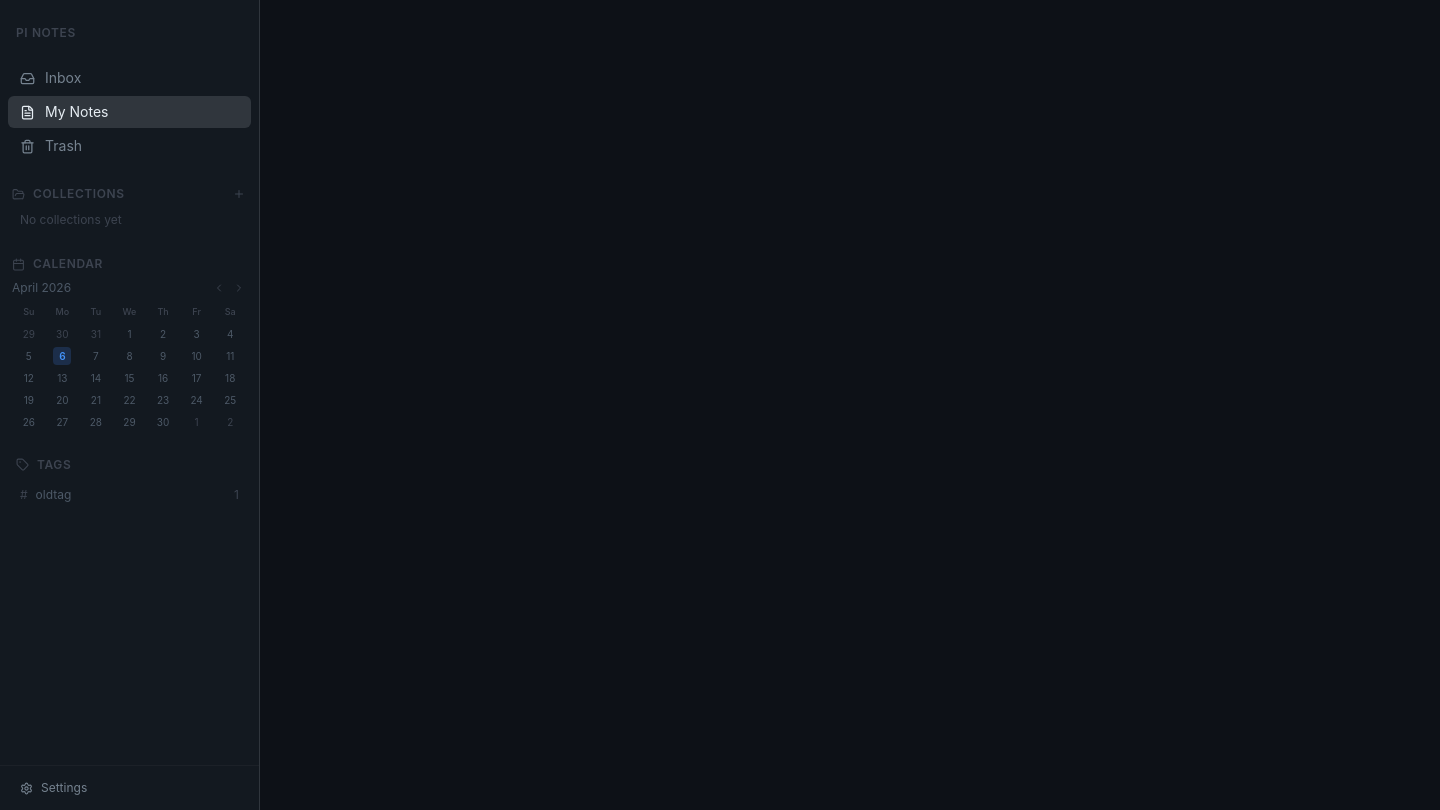
Test: Sidebar › shows toast when renameTag fails
Hover over the text "oldtag" at [53, 494], box top-left (36, 487), bottom-right (71, 502)
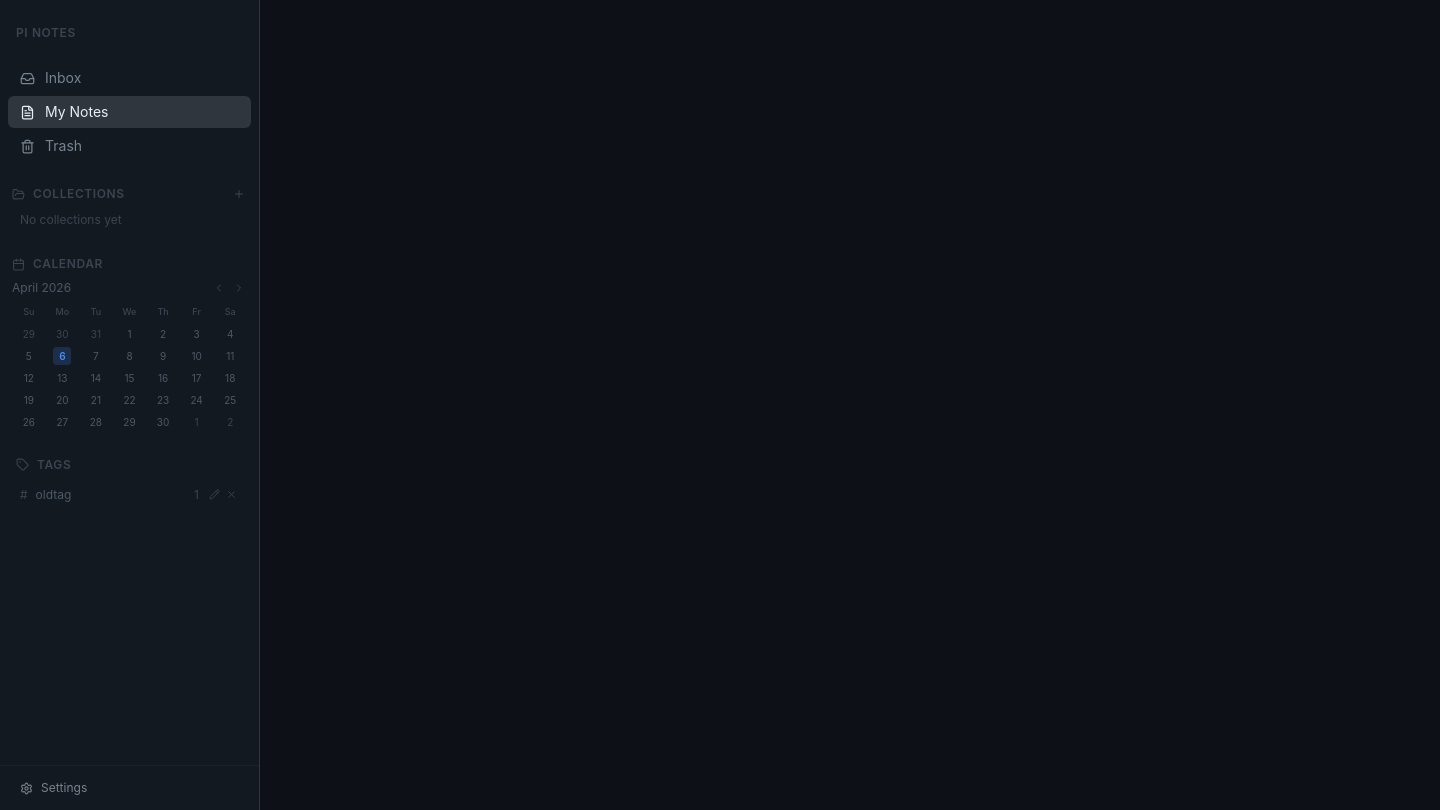
Click the button named "Rename tag oldtag" at [214, 495], box top-left (207, 488), bottom-right (222, 502)
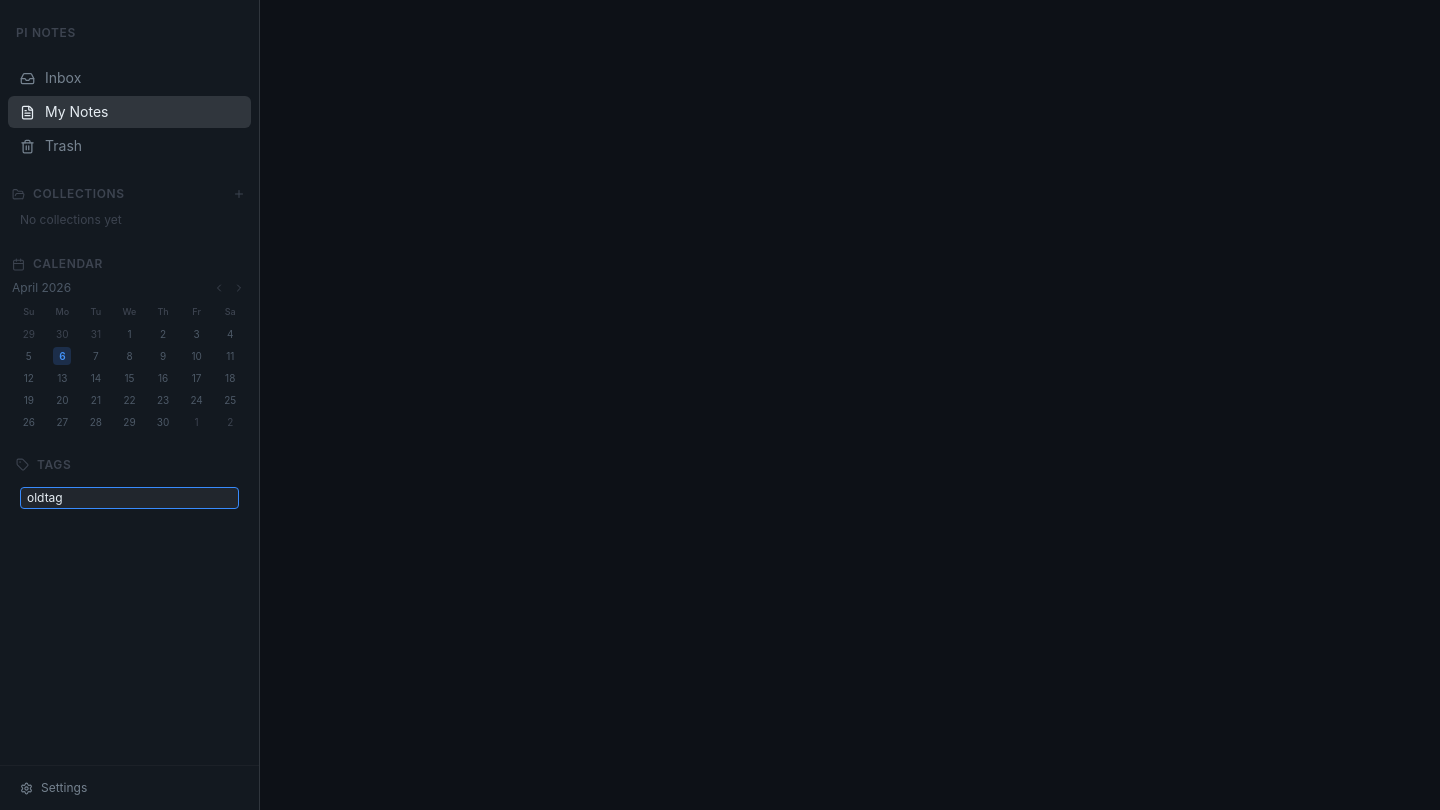
Replace the text in the field showing "oldtag" with "newtag" at [130, 498], box top-left (20, 487), bottom-right (239, 509)
Then press Enter
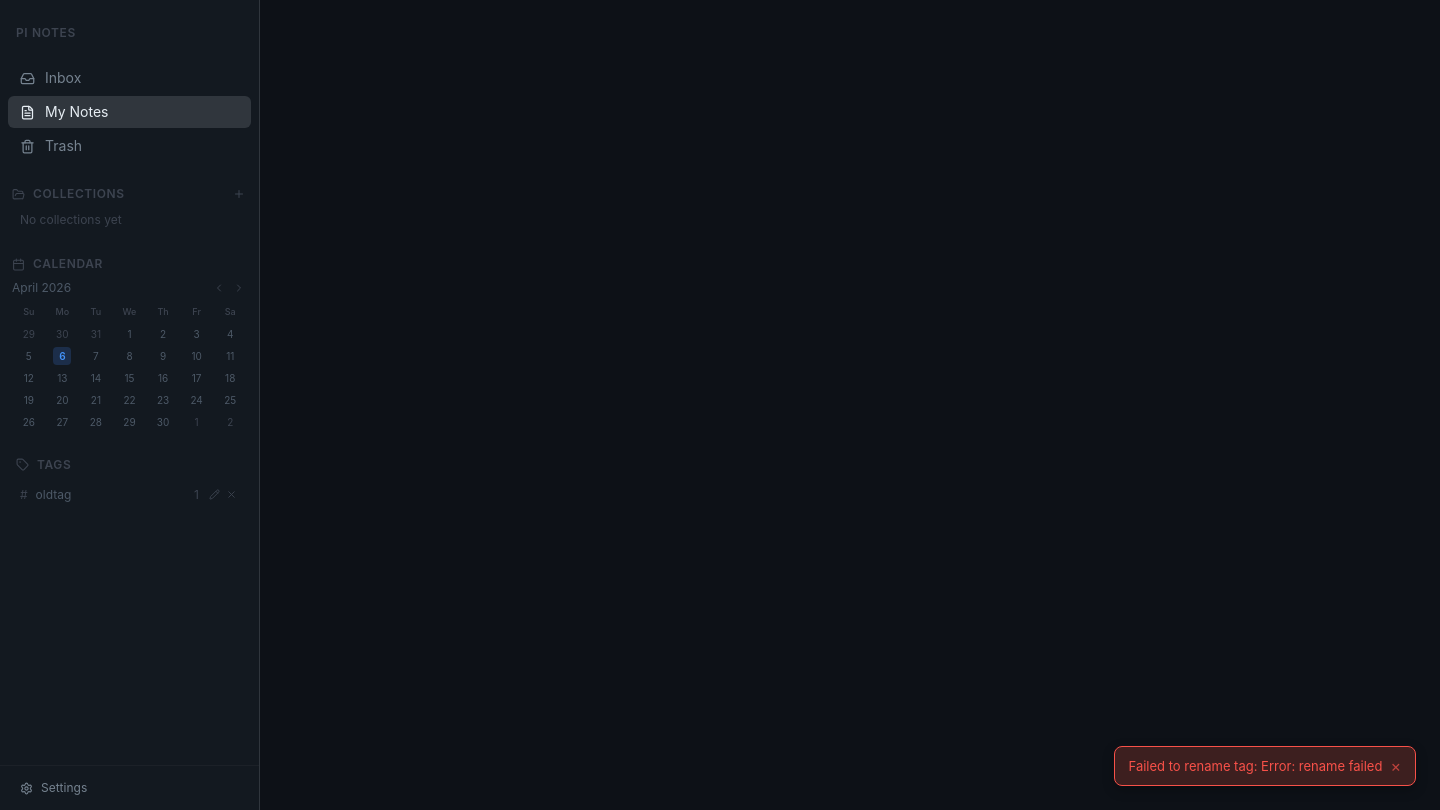
Now the text "Failed to rename tag: Error: rename failed" is shown, box top-left (1128, 757), bottom-right (1382, 775)
